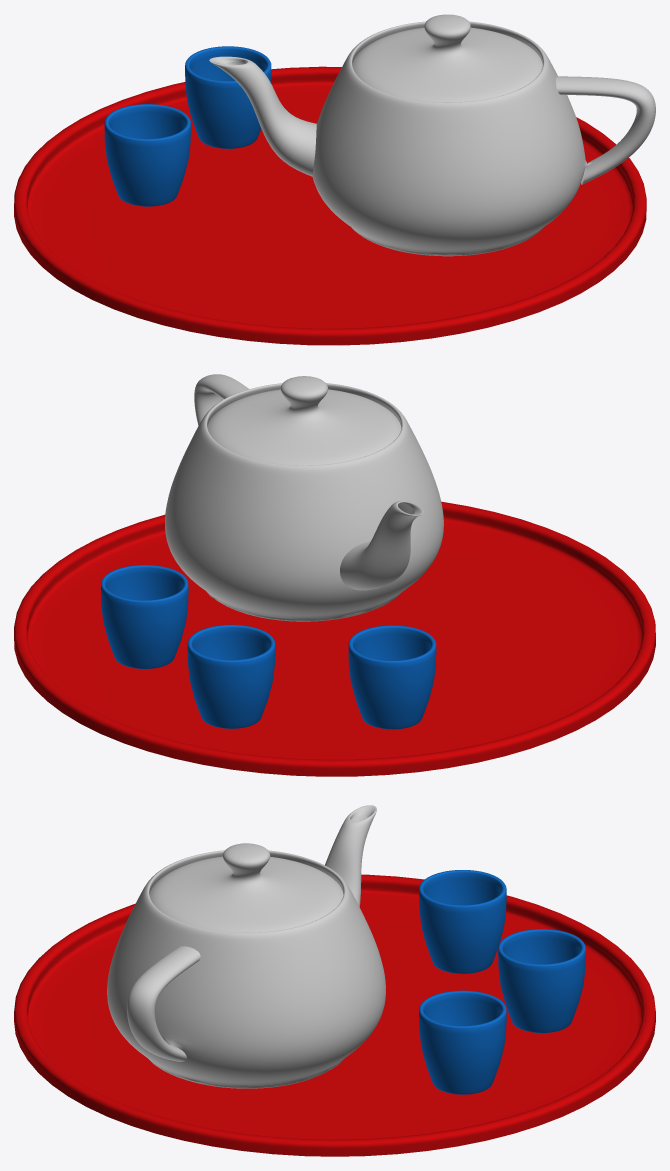
Rendered from teapot_n_glassMAT.obj.
3 views of the same model, one above another, from view 1: azimuth 30°, elevation 25°; view 2: azimuth 150°, elevation 25°; view 3: azimuth 270°, elevation 25° (orthographic).
Visible parts, largest first — view 1: Circle, Teapot, Cylinder.002, Cylinder; view 2: Circle, Teapot, Cylinder.002, Cylinder, Cylinder.001; view 3: Circle, Teapot, Cylinder.001, Cylinder, Cylinder.002.
Boxes of the visible parts, bbox=[...] form: Circle: bbox=[14, 66, 646, 345]; Teapot: bbox=[209, 14, 655, 256]; Cylinder.002: bbox=[104, 104, 190, 206]; Cylinder: bbox=[185, 46, 271, 148]; Circle: bbox=[14, 501, 655, 776]; Teapot: bbox=[165, 374, 443, 621]; Cylinder.002: bbox=[348, 625, 436, 729]; Cylinder: bbox=[187, 624, 275, 728]; Cylinder.001: bbox=[100, 565, 188, 668]; Circle: bbox=[14, 874, 655, 1156]; Teapot: bbox=[107, 805, 385, 1088]; Cylinder.001: bbox=[419, 990, 506, 1094]; Cylinder: bbox=[498, 929, 585, 1032]; Cylinder.002: bbox=[419, 870, 506, 973].
Bounding box in the file's own units: 9.03 × 3.23 × 9.03.
